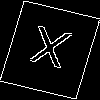X: (25, 25, 73, 78)
